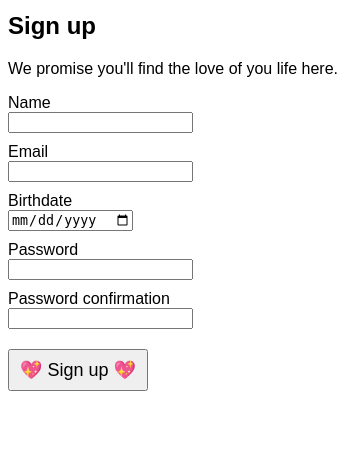
Test: SignupView › when the form is invalid › should show an error if the name is empty
This screenshot has width=354, height=476.
In the field with test id "name": {"x": 100, "y": 122} [8, 112, 193, 133], type "Chuck"
In the field with test id "email": {"x": 100, "y": 171} [8, 161, 193, 182], type "chuck@norris.com"
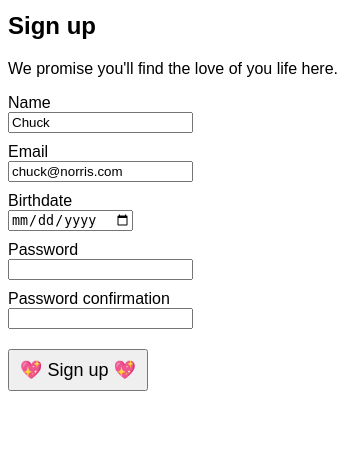
In the date field with test id "birthday": {"x": 71, "y": 220} [8, 210, 133, 231], type "1981-11-12"
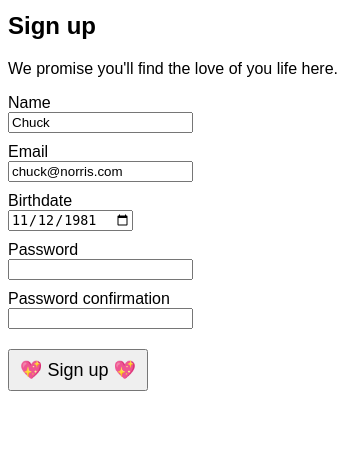
In the password field with test id "password": {"x": 100, "y": 270} [8, 259, 193, 280], type "12341234"
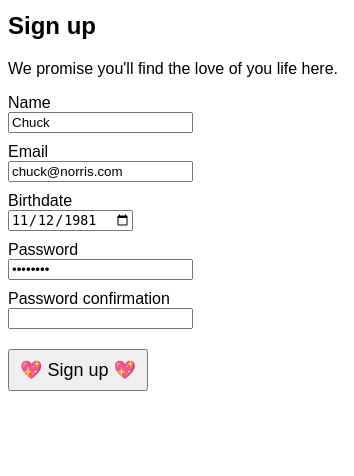
In the password field with test id "passwordConfirmation": {"x": 100, "y": 319} [8, 308, 193, 329], type "12341234"
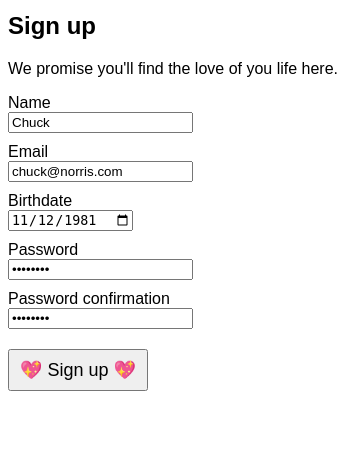
Clear the field with test id "name": {"x": 100, "y": 122} [8, 112, 193, 133]
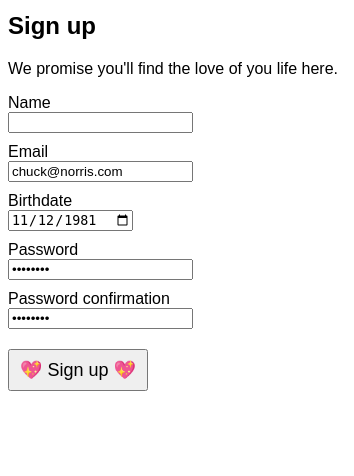
Submit the form, box [8, 94, 193, 391]
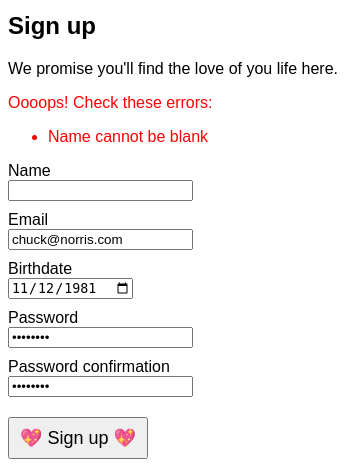
Expected: the element with class "errors" reads "Oooops! Check these errors: Name cannot be blank", [8, 94, 212, 145]
